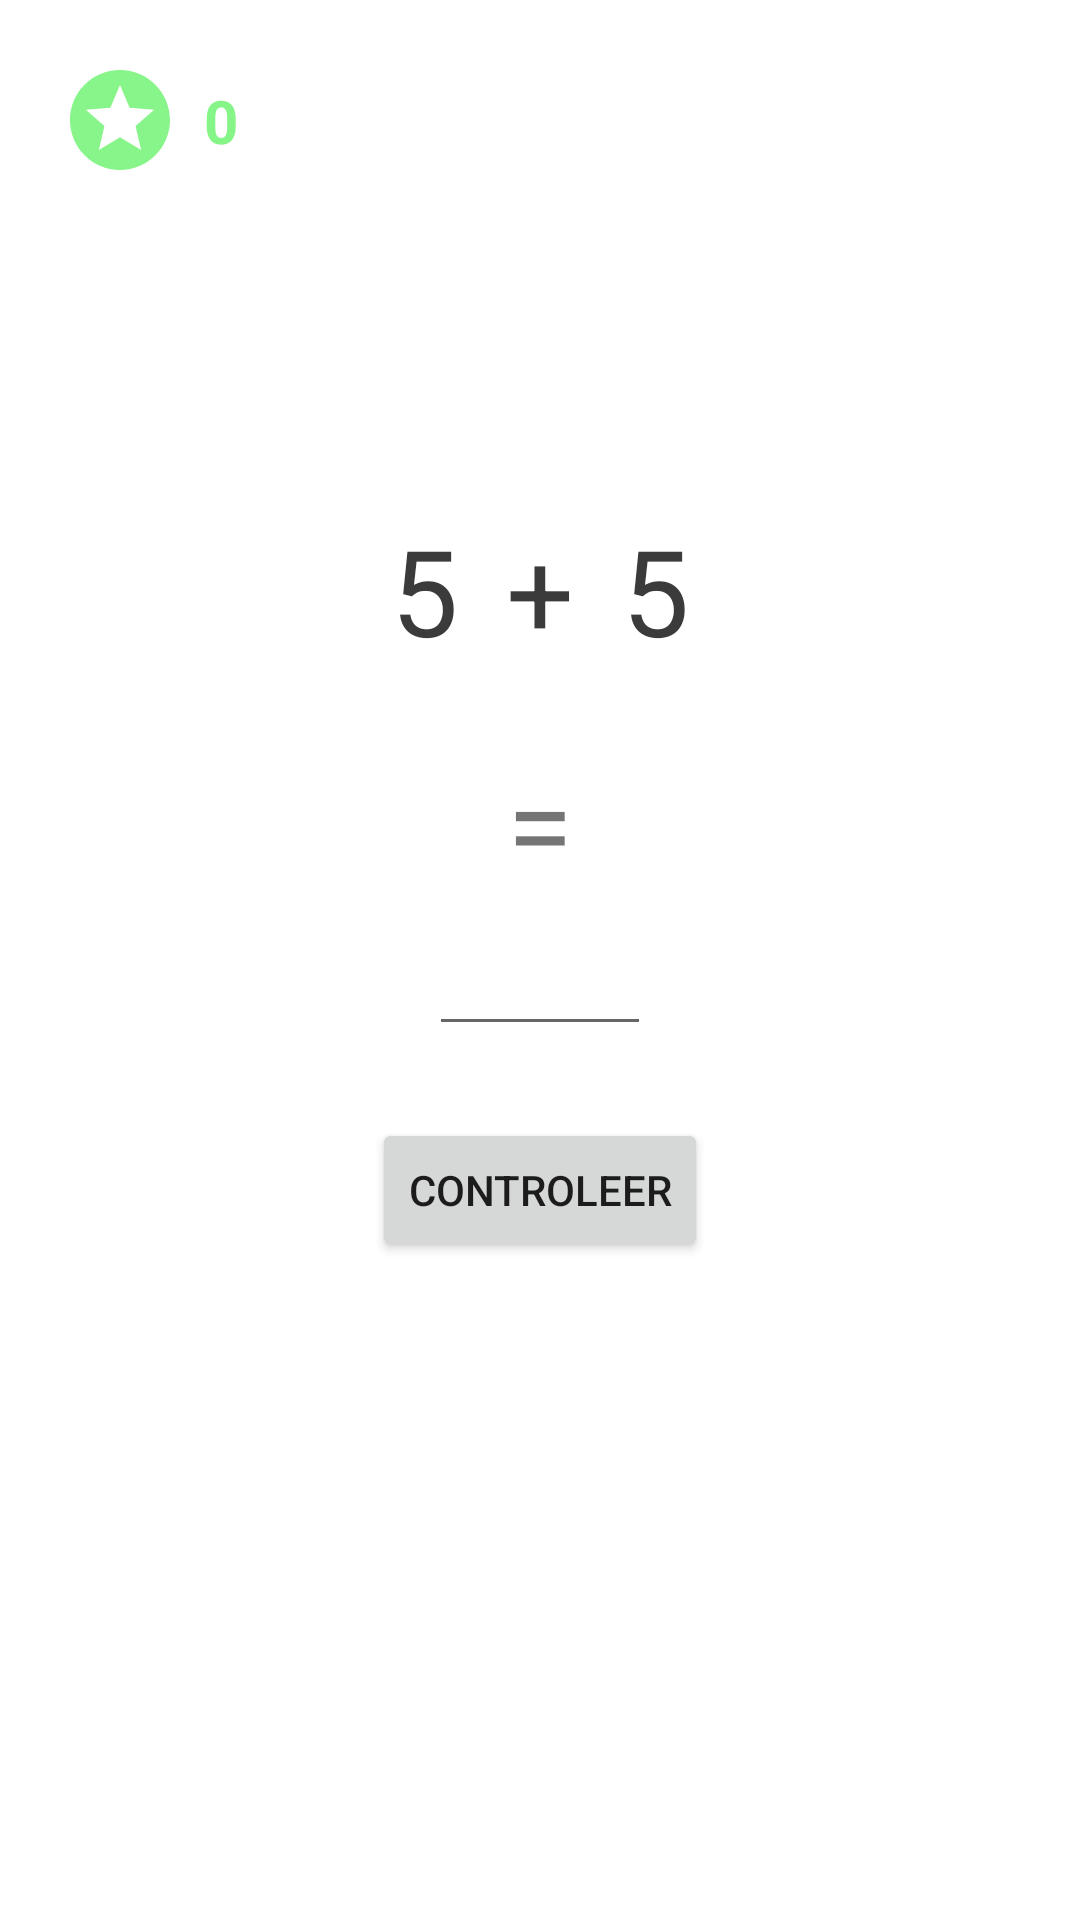

Icons on this 1080*1920 Android screen, each with its box as (x1, y1, x2, y2):
experience: (70, 70, 170, 170)
